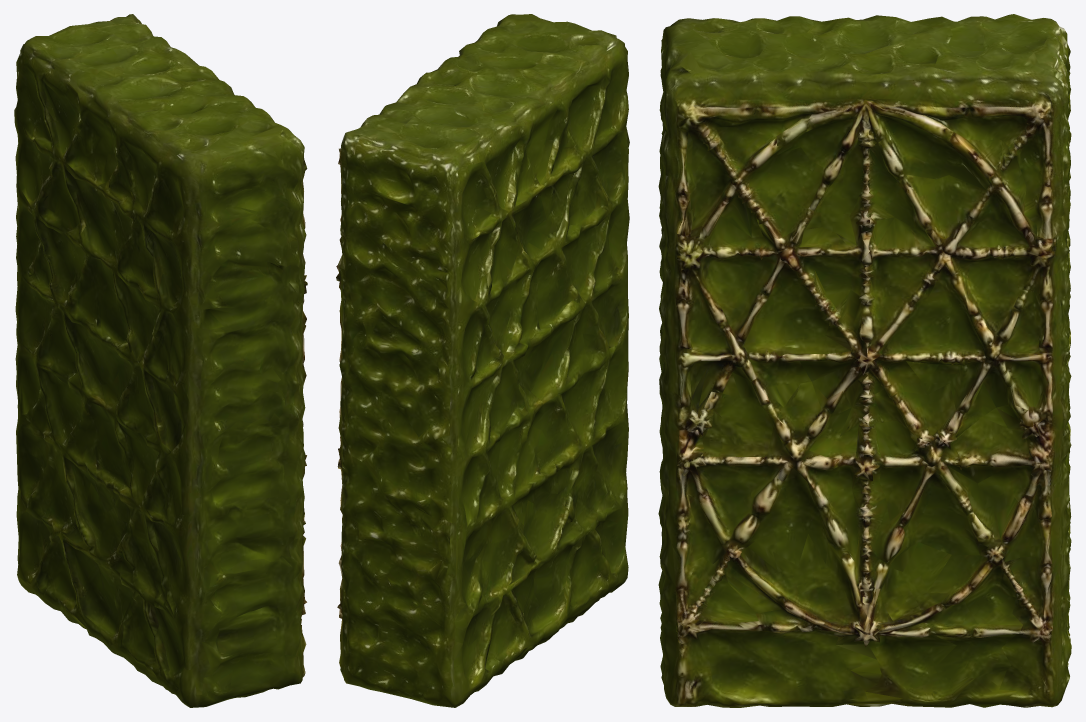
File: jelly.glb
3 views of the same model, side by side, from view 1: azimuth 30°, elevation 25°; view 2: azimuth 150°, elevation 25°; view 3: azimuth 270°, elevation 25° (orthographic). The views are drawn at different scales.
Parts seen in each view (by area): view 1: tripo_node_1a03b74a-96e8-4756-9ae7-0119e32ca418; view 2: tripo_node_1a03b74a-96e8-4756-9ae7-0119e32ca418; view 3: tripo_node_1a03b74a-96e8-4756-9ae7-0119e32ca418.
Part boxes in pixels (x1,y1,x2,y2): tripo_node_1a03b74a-96e8-4756-9ae7-0119e32ca418: (14, 14, 307, 707); tripo_node_1a03b74a-96e8-4756-9ae7-0119e32ca418: (336, 14, 629, 707); tripo_node_1a03b74a-96e8-4756-9ae7-0119e32ca418: (658, 14, 1071, 707).
Bounding box in the file's own units: 0.2456 × 0.9806 × 0.5777.
Materials: 1 (1 with a texture image).
